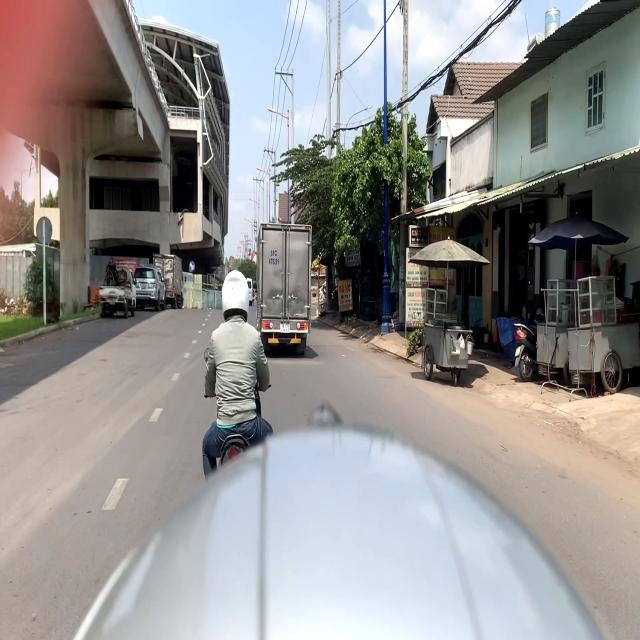bien_hieu_lenh: (189, 261, 195, 272)
